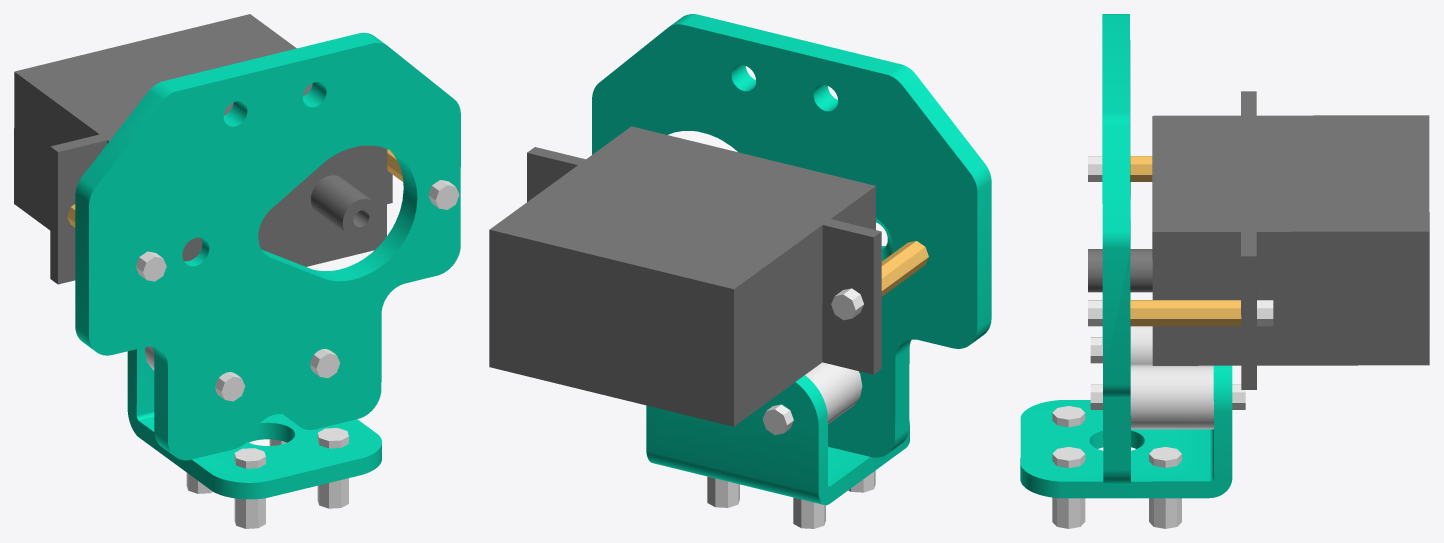
The model's file is hand01.gltf.
The picture shows the model from 3 angles, left to right: view 1: azimuth 30°, elevation 25°; view 2: azimuth 150°, elevation 25°; view 3: azimuth 270°, elevation 25°; orthographic projection. The views are drawn at different scales.
Parts seen in each view (by area): view 1: 01M; view 2: 01M; view 3: 01M.
Boxes of the visible parts, left/top/right/bottom form: 01M: left=14, top=14, right=460, bottom=528; 01M: left=489, top=14, right=991, bottom=528; 01M: left=1020, top=14, right=1429, bottom=528.
Size of the model in its own units: 1.85 by 2.06 by 1.75.
